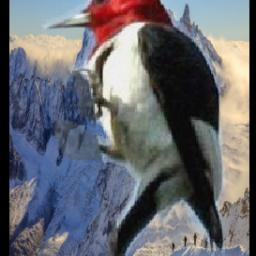Woodpecker: (40, 0, 229, 256)
